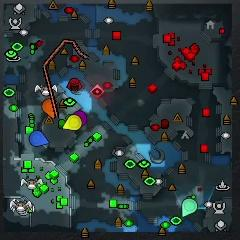p1: (29, 130, 49, 147)
p2: (181, 199, 198, 217)
p3: (73, 111, 88, 125)
p4: (63, 115, 82, 130)
p5: (42, 98, 57, 118)
